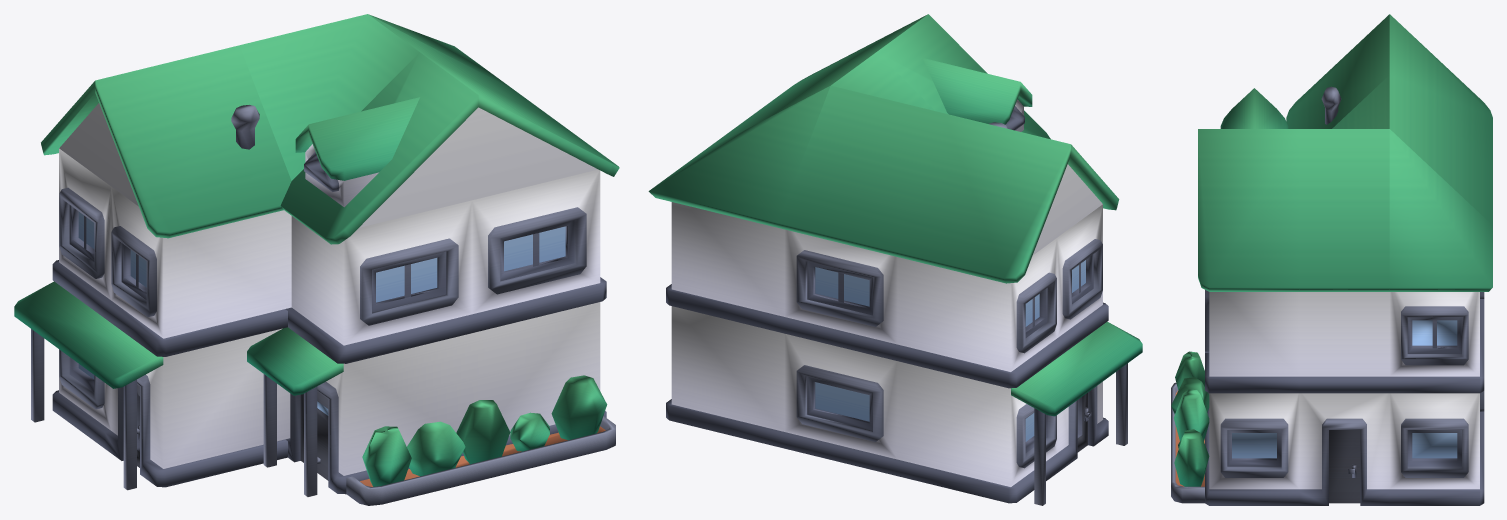
The model's file is n1_building-type-f_lev1.glb.
The picture shows the model from 3 angles, left to right: view 1: azimuth 30°, elevation 25°; view 2: azimuth 150°, elevation 25°; view 3: azimuth 270°, elevation 25°; orthographic projection. The views are drawn at different scales.
Visible parts, largest first — view 1: n1_building-type-f_lev1; view 2: n1_building-type-f_lev1; view 3: n1_building-type-f_lev1.
Boxes of the visible parts, x1,y1,x2,y2 form: n1_building-type-f_lev1: (14, 14, 619, 505); n1_building-type-f_lev1: (648, 14, 1142, 505); n1_building-type-f_lev1: (1171, 14, 1492, 505).
Size of the model in its own units: 10.9 by 8.56 by 7.8.
1 material, 1 textured.
